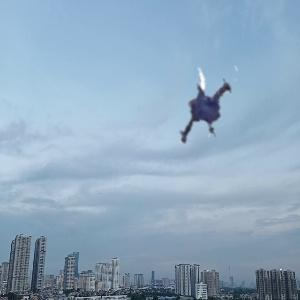drone: (155, 53, 257, 155)
